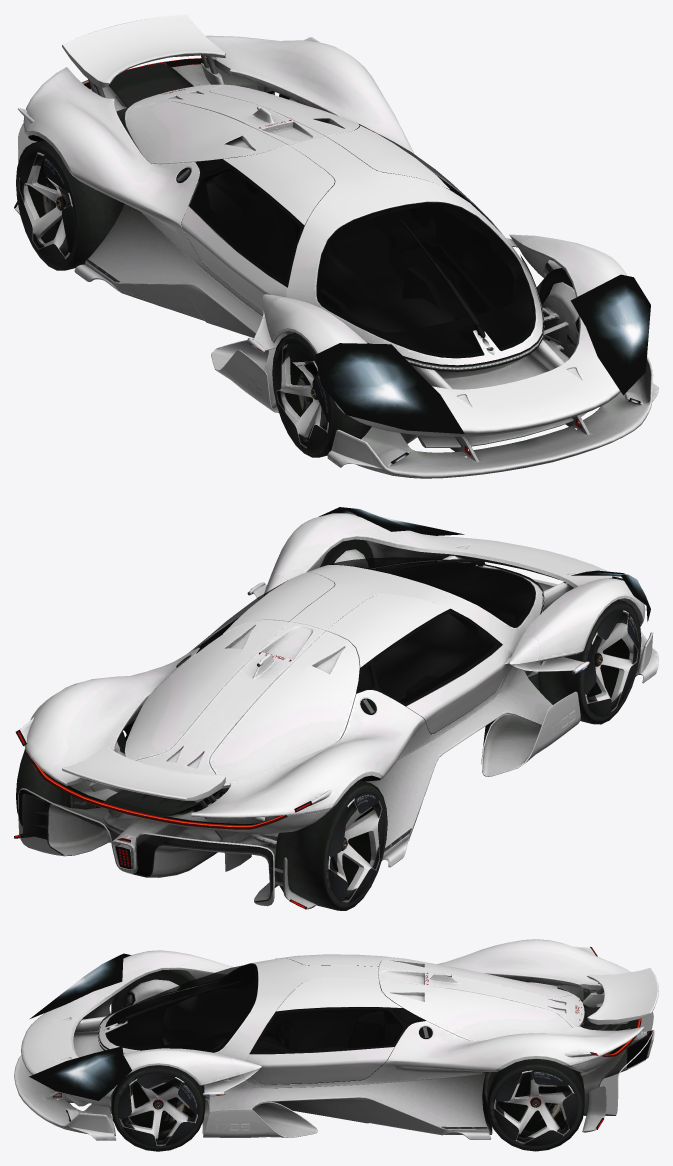
File: vision.glb
The picture shows the model from 3 angles, top to bottom: view 1: azimuth 30°, elevation 25°; view 2: azimuth 150°, elevation 25°; view 3: azimuth 270°, elevation 25°; orthographic projection. The views are drawn at different scales.
Visible parts, largest first — view 1: chassis_carpaint.003, glasses_glass_windows.001, chassis_carpaint_3, lights_position_front_and_back_pivot_glows.001_Material.010_, chassis_carpaint_2, detach_door_R_50_carpaint.001, detach_door_L_50_carpaint.001, WheelBR_tyres, chassis_details.002, WheelBR_rims, WheelBR_carpaint_2, WheelFR_rims (+4 smaller); view 2: chassis_carpaint.003, chassis_carpaint_2, glasses_glass_windows.001, chassis_carpaint_3, detach_door_R_50_carpaint.001, WheelBR_tyres, chassis_glass_light, lights_position_front_and_back_pivot_glows.001_Material.010_, detach_door_L_50_carpaint.001, WheelFR_tyres, chassis_details.002, WheelBR_rims (+6 smaller); view 3: chassis_carpaint.003, glasses_glass_windows.001, chassis_carpaint_2, chassis_carpaint_3, detach_door_L_50_carpaint.001, lights_position_front_and_back_pivot_glows.001_Material.010_, WheelBL_tyres, WheelBL_rims, WheelFL_rims, WheelFL_tyres, WheelBL_carpaint_2, WheelFL_carpaint_2 (+8 smaller).
Boxes of the visible parts, x1,y1,x2,y2 form: chassis_carpaint.003: [18, 14, 627, 446]; glasses_glass_windows.001: [188, 124, 535, 358]; chassis_carpaint_3: [14, 63, 653, 476]; lights_position_front_and_back_pivot_glows.001_Material.010_: [83, 58, 650, 433]; chassis_carpaint_2: [15, 91, 658, 478]; detach_door_R_50_carpaint.001: [181, 145, 334, 317]; detach_door_L_50_carpaint.001: [326, 124, 535, 272]; WheelBR_tyres: [16, 140, 124, 270]; chassis_details.002: [86, 55, 629, 463]; WheelBR_rims: [18, 152, 74, 261]; WheelBR_carpaint_2: [18, 152, 72, 259]; WheelFR_rims: [275, 343, 329, 449]; chassis_carpaint.003: [20, 513, 645, 871]; chassis_carpaint_2: [22, 544, 658, 907]; glasses_glass_windows.001: [189, 557, 535, 706]; chassis_carpaint_3: [18, 555, 652, 909]; detach_door_R_50_carpaint.001: [326, 594, 539, 733]; WheelBR_tyres: [275, 780, 387, 910]; chassis_glass_light: [18, 789, 273, 904]; lights_position_front_and_back_pivot_glows.001_Material.010_: [26, 507, 650, 829]; detach_door_L_50_carpaint.001: [187, 572, 334, 653]; WheelFR_tyres: [538, 599, 641, 724]; chassis_details.002: [93, 559, 589, 852]; WheelBR_rims: [328, 792, 384, 901]; chassis_carpaint.003: [20, 939, 658, 1132]; glasses_glass_windows.001: [105, 963, 424, 1054]; chassis_carpaint_2: [18, 960, 654, 1140]; chassis_carpaint_3: [14, 1011, 653, 1133]; detach_door_L_50_carpaint.001: [231, 979, 424, 1084]; lights_position_front_and_back_pivot_glows.001_Material.010_: [29, 953, 641, 1100]; WheelBL_tyres: [487, 1058, 584, 1151]; WheelBL_rims: [494, 1070, 577, 1145]; WheelFL_rims: [118, 1073, 198, 1145]; WheelFL_tyres: [111, 1065, 205, 1151]; WheelBL_carpaint_2: [494, 1070, 574, 1143]; WheelFL_carpaint_2: [119, 1077, 197, 1146].
Size of the model in its own units: 2.13 by 1.03 by 4.85.
8 materials, 7 textured.
